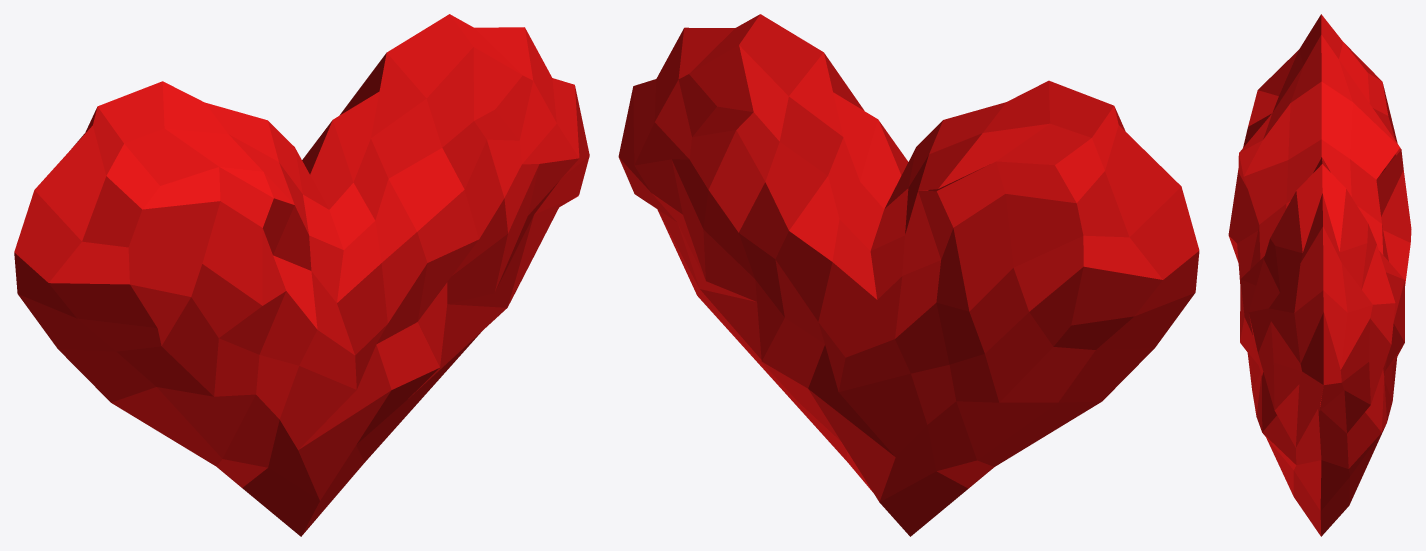
The model's file is pop.heart.model.glb.
3 renders of one model, left to right at view 1: azimuth 30°, elevation 25°; view 2: azimuth 150°, elevation 25°; view 3: azimuth 270°, elevation 25°, orthographic. The views are drawn at different scales.
Visible parts, largest first — view 1: Heart; view 2: Heart; view 3: Heart.
Part boxes in pixels (x1,y1,x2,y2): Heart: (14, 14, 589, 536); Heart: (618, 14, 1199, 536); Heart: (1228, 14, 1411, 536).
Size of the model in its own units: 1.46 by 1.18 by 0.4438.
